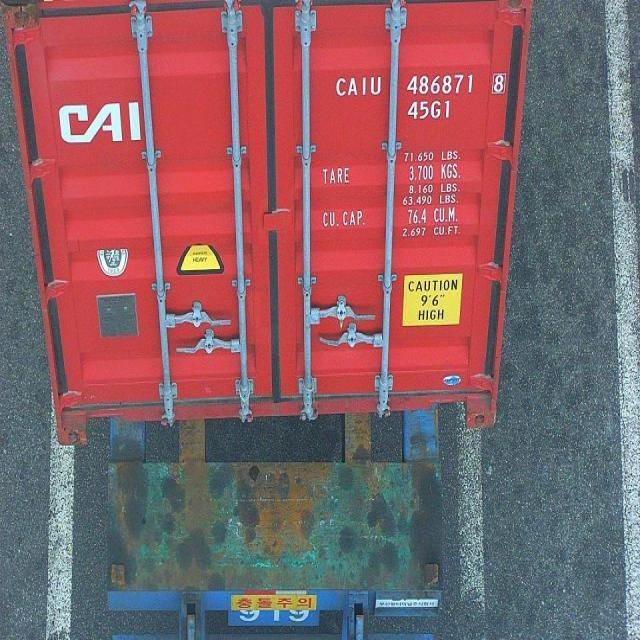ISO: (408, 101, 451, 120)
container_number: (334, 67, 508, 100)
